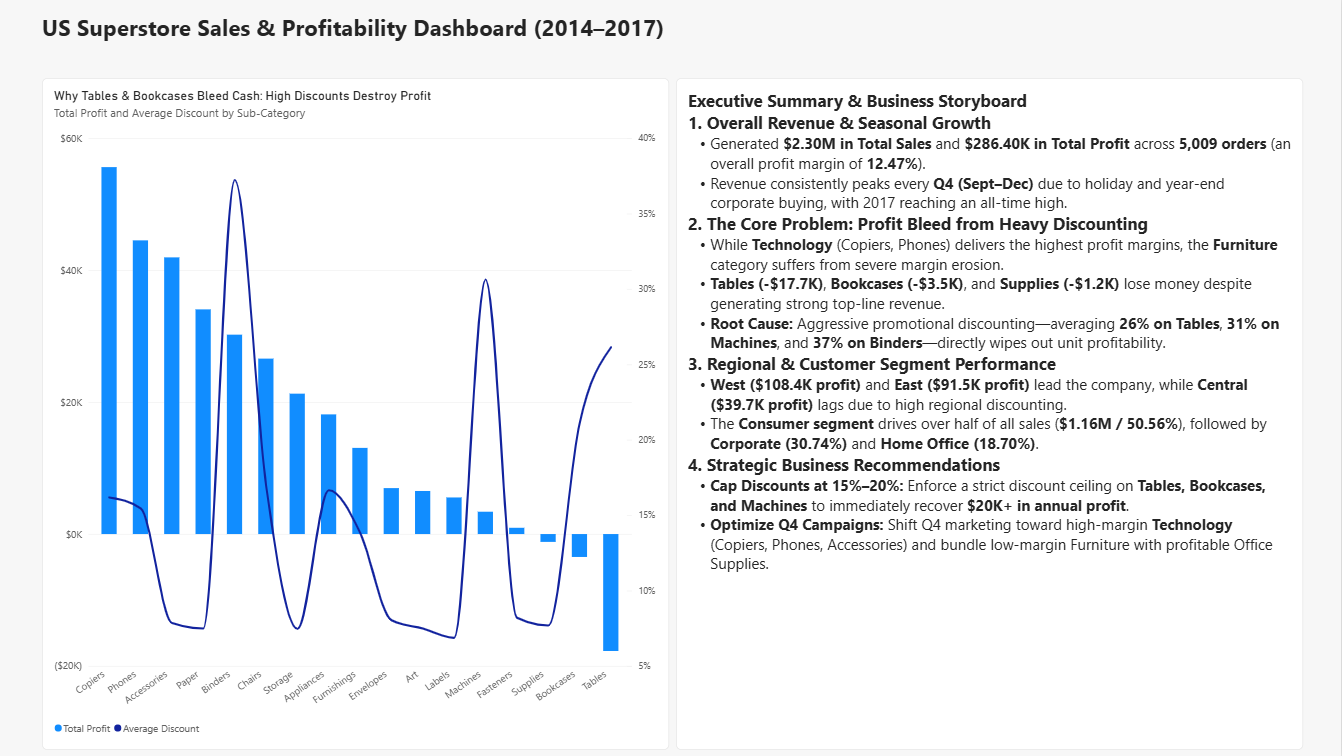

This screenshot's page, from the dashboard's own definition file:
{"tool":"powerbi","page":{"name":"Executive Storyboard","canvas":[1920,1080],"ordinal":1},"visuals":[{"type":"textbox","box":[64,16,896,48],"z":0},{"type":"lineClusteredColumnComboChart","title":"Why Tables & Bookcases Bleed Cash: High Discounts Destroy Profit","fields":{"Category":["Sample - Superstore.Sub-Category"],"Y":["Sample - Superstore.Total Profit"],"Y2":["Sample - Superstore.Average Discount"]},"box":[64,112,896,960],"z":1},{"type":"textbox","box":[970,112,896,960],"z":2}]}

Visuals, with their boxes in screenshot pixels (x1, y1, x2, y2), scaled from the page's 1920x1080 canvas onto the 1342x756 screenshot:
textbox: crop(45, 11, 671, 45)
"Why Tables & Bookcases Bleed Cash: High Discounts Destroy Profit" lineClusteredColumnComboChart: crop(45, 78, 671, 750)
textbox: crop(678, 78, 1304, 750)
